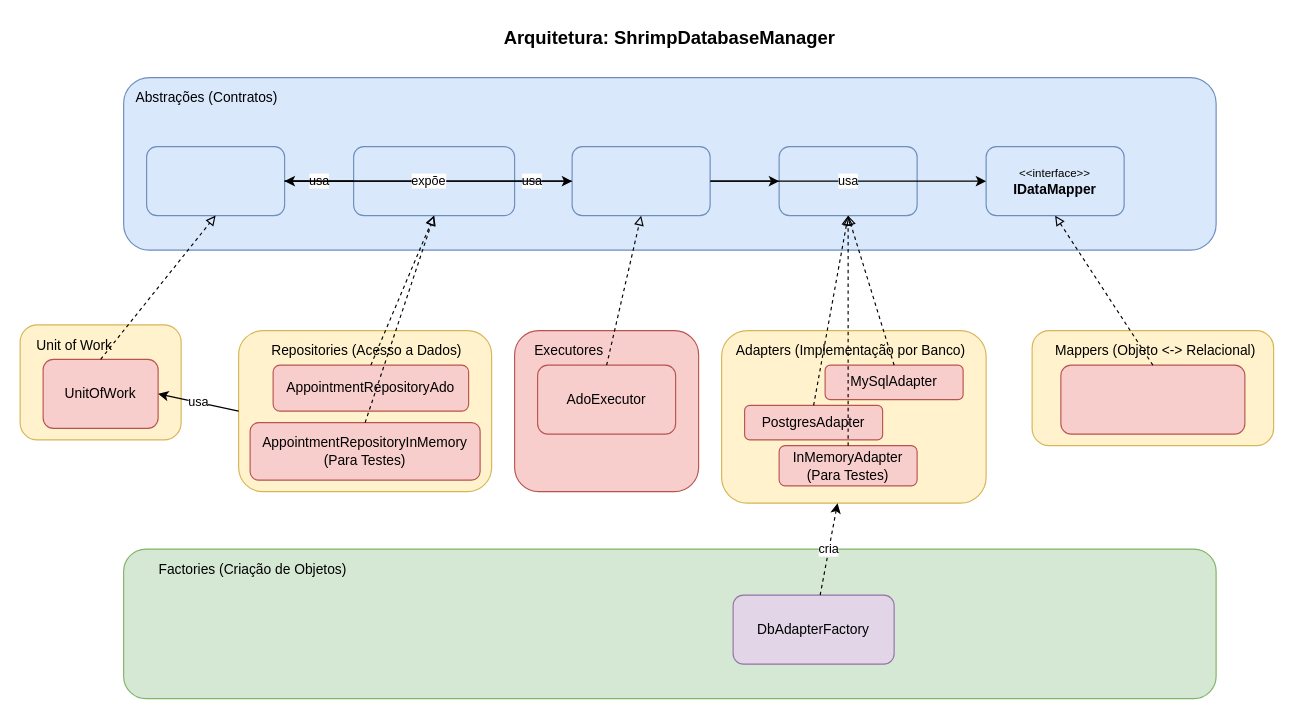
Some shapes in this 1294 by 719 pixel diagram are drawn without their labels. Here are the shapes that lost their labels. From the top down, the centre of each, then its label:
point 215,180: <<interface>> IUnitOfWork
point 433,180: <<interface>> IAppointmentRepository
point 640,180: <<interface>> IDbExecutor
point 847,180: <<interface>> IDbAdapter
point 1152,399: AppointmentDataMapper
